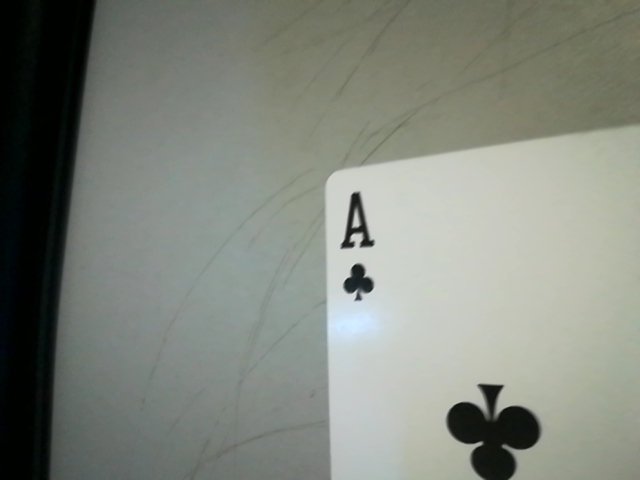mh a: (330, 182, 392, 316)
